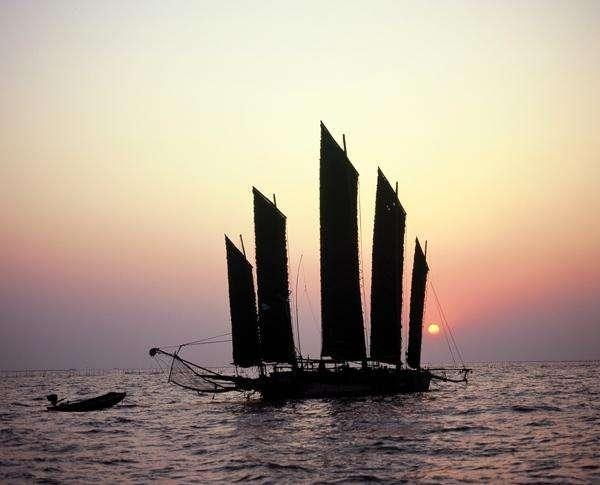fanchuan: (152, 116, 460, 415)
otherboat: (43, 383, 126, 426)
